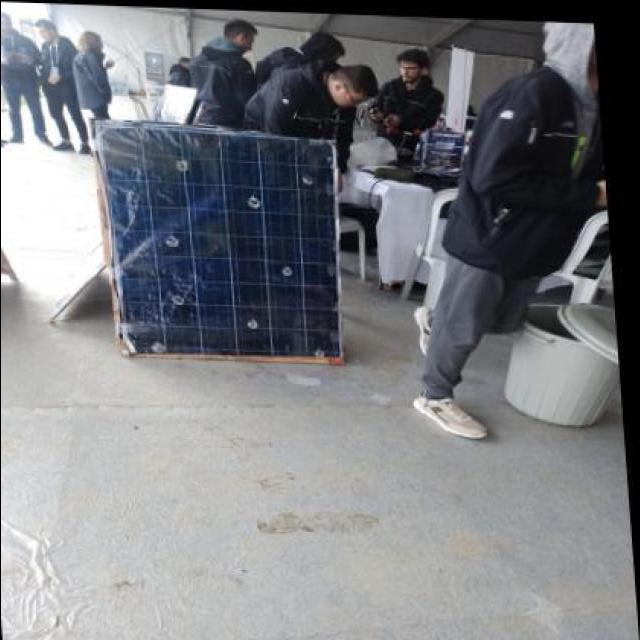soiled: (93, 120, 352, 355)
